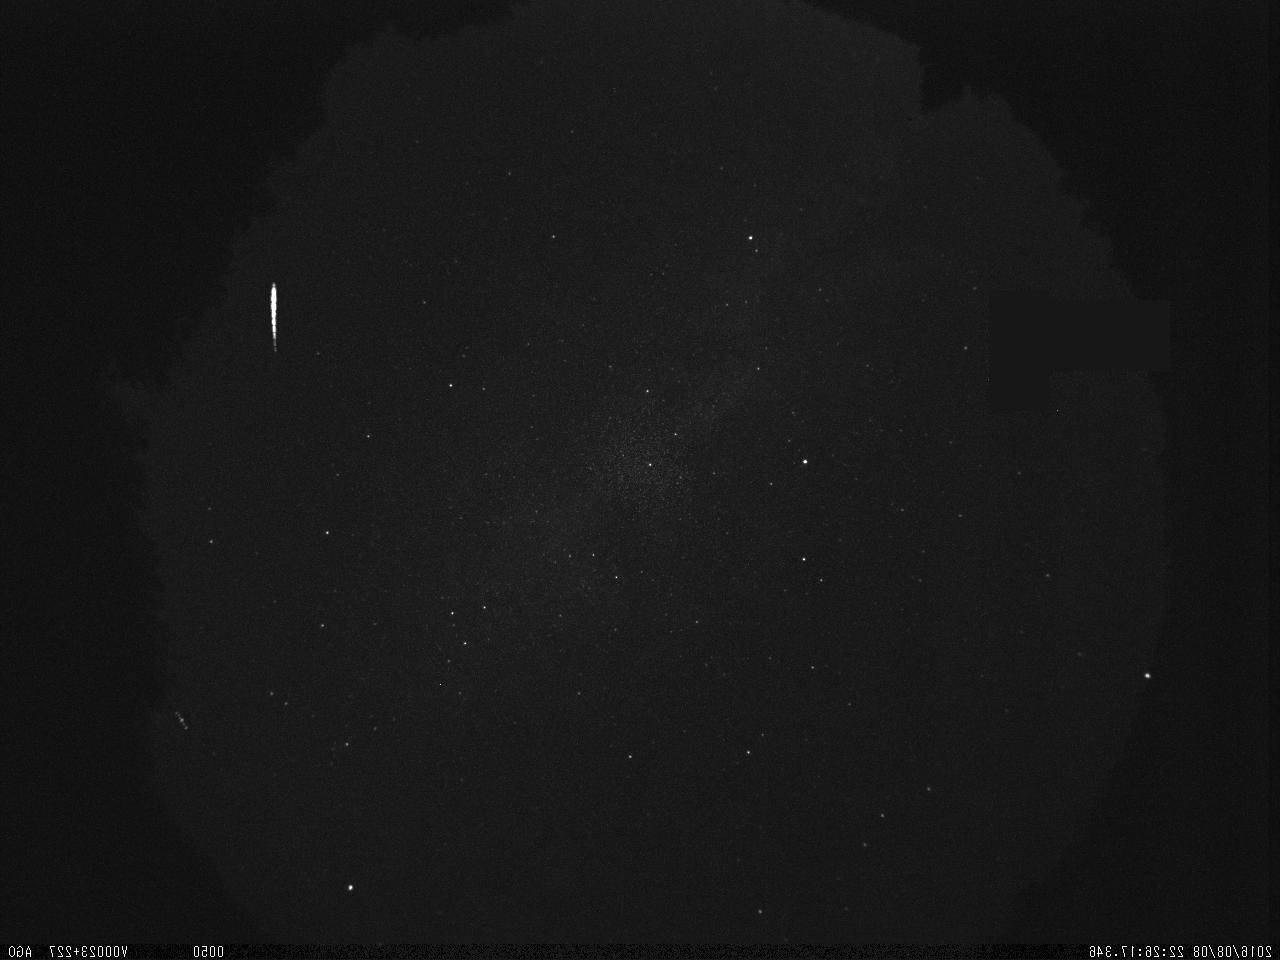meteor: (250, 260, 332, 368)
